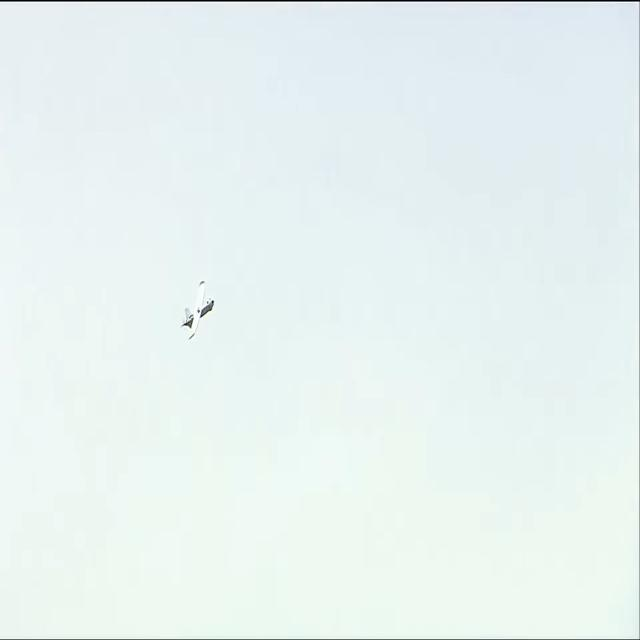iha: (175, 279, 209, 340)
